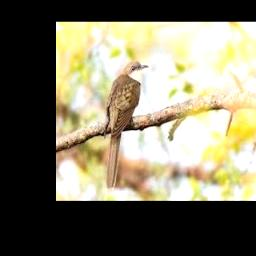Cuckoo: (105, 61, 150, 192)
